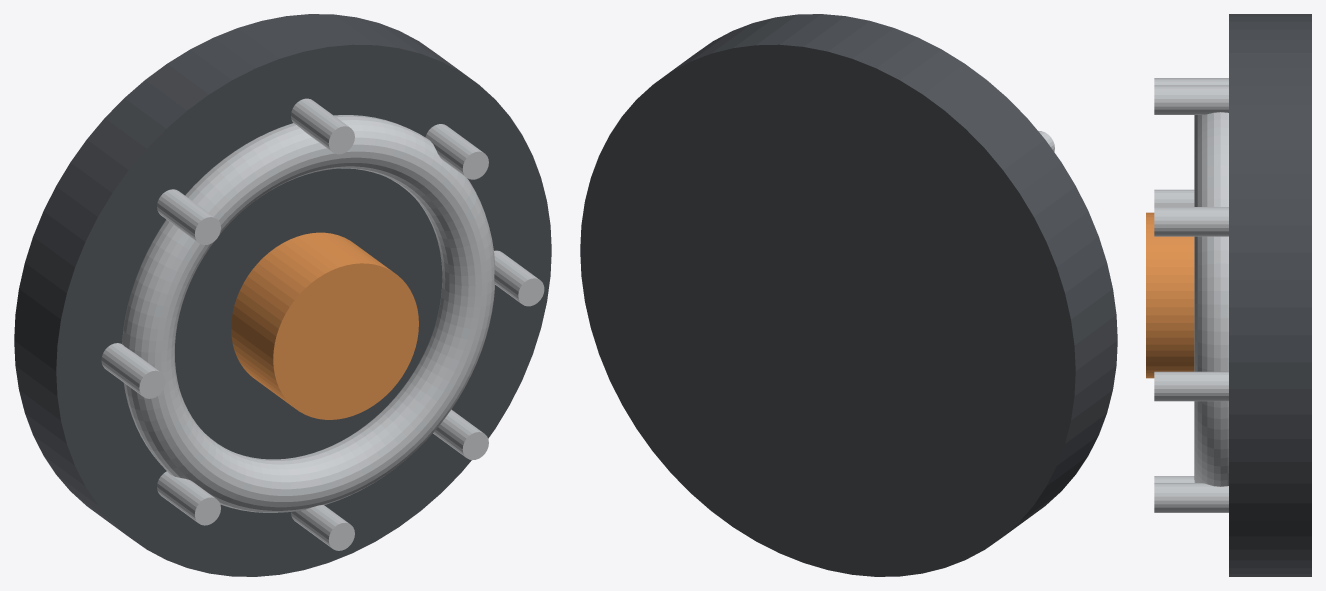
File: descender.glb
The picture shows the model from 3 angles, left to right: view 1: azimuth 30°, elevation 25°; view 2: azimuth 150°, elevation 25°; view 3: azimuth 270°, elevation 25°; orthographic projection.
Visible parts, largest first — view 1: part_0, part_1, part_2, part_6, part_7, part_5, part_8, part_4, part_9, part_3, part_10; view 2: part_0; view 3: part_0, part_1, part_2, part_3, part_4, part_5, part_10, part_7, part_6, part_9.
Part boxes in pixels (x1,y1,x2,y2): part_0: (14,14,551,576); part_1: (122,115,494,512); part_2: (231,232,418,419); part_6: (157,189,220,244); part_7: (101,343,165,398); part_5: (291,98,354,154); part_8: (157,471,220,525); part_4: (425,124,488,179); part_9: (291,505,354,550); part_3: (494,250,544,306); part_10: (433,409,488,460); part_0: (580,14,1117,576); part_0: (1229,14,1311,576); part_1: (1194,112,1228,486); part_2: (1146,212,1194,378); part_3: (1154,371,1228,401); part_4: (1154,207,1228,236); part_5: (1154,85,1228,114); part_10: (1154,483,1228,512); part_7: (1154,189,1194,206); part_6: (1154,78,1228,85); part_9: (1154,476,1194,482).
Bounding box in the file's own units: 0.68 × 0.68 × 0.2.
